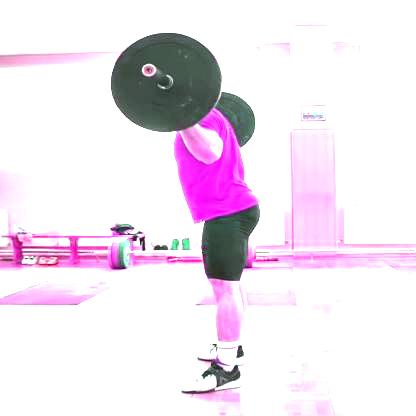barbell: (111, 32, 223, 134)
